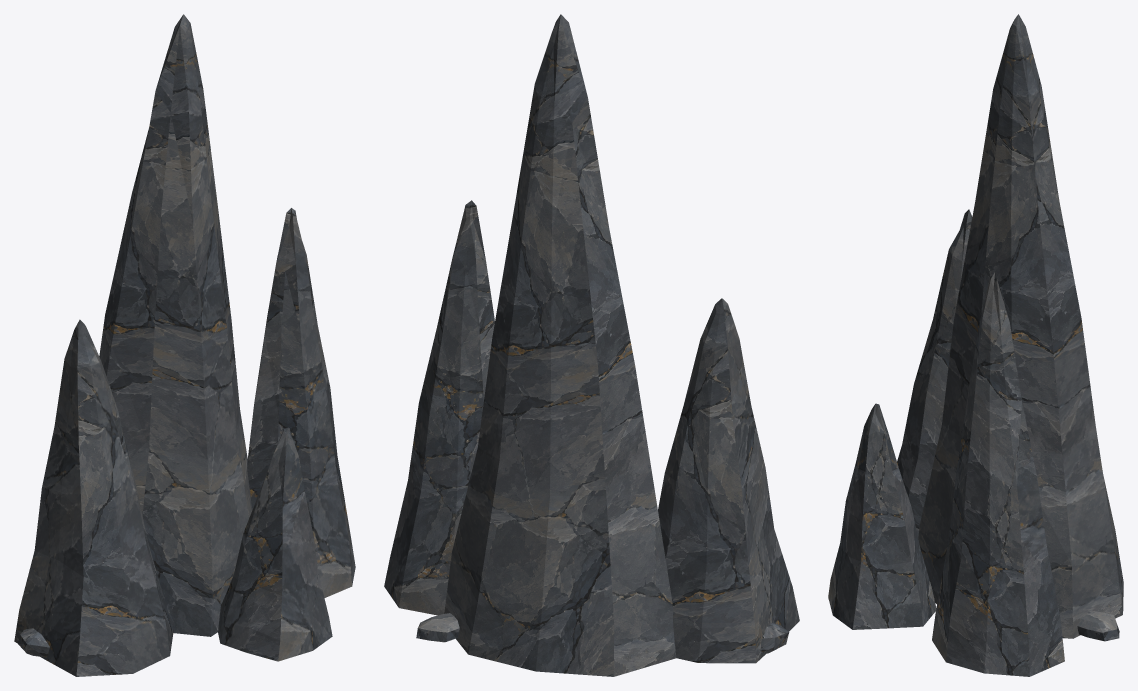
The model's file is Cave_R14_TallStalagmites.fbx.
3 views of the same model, side by side, from view 1: azimuth 30°, elevation 25°; view 2: azimuth 150°, elevation 25°; view 3: azimuth 270°, elevation 25° (orthographic). The views are drawn at different scales.
Parts seen in each view (by area): view 1: Cave_R14_TallStalagmites_LOD0; view 2: Cave_R14_TallStalagmites_LOD0; view 3: Cave_R14_TallStalagmites_LOD0.
Part boxes in pixels (<box>): Cave_R14_TallStalagmites_LOD0: <box>14,14,355,676</box>; Cave_R14_TallStalagmites_LOD0: <box>384,14,799,676</box>; Cave_R14_TallStalagmites_LOD0: <box>828,14,1123,676</box>.
Size of what is drawn, in the model's own units: 1.94 by 3.08 by 1.42.
1 material, 1 textured.
